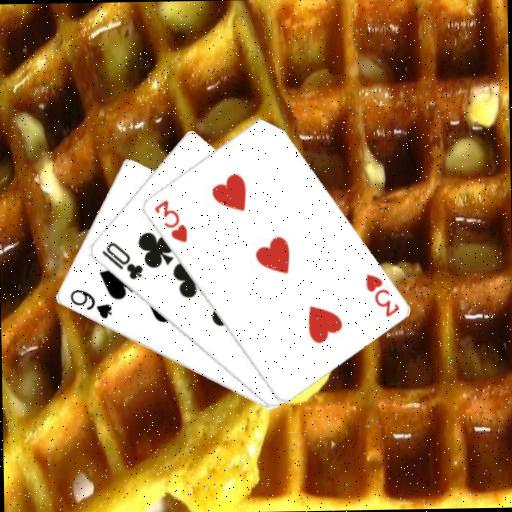10C: (98, 239, 145, 283)
3H: (362, 270, 401, 319), (151, 196, 189, 245)
9S: (66, 286, 114, 322)
